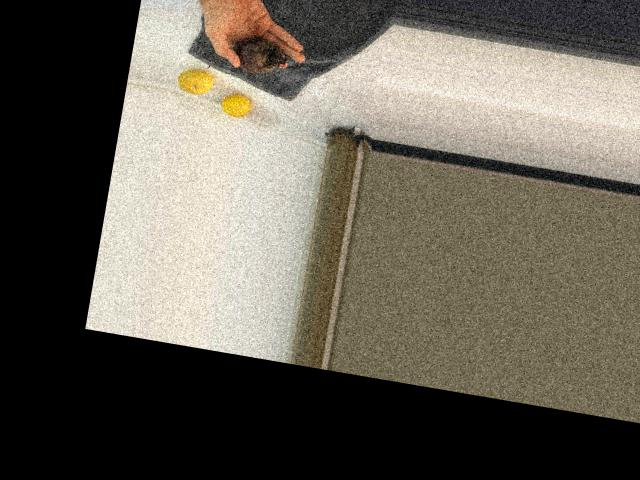beet: (207, 29, 289, 81)
